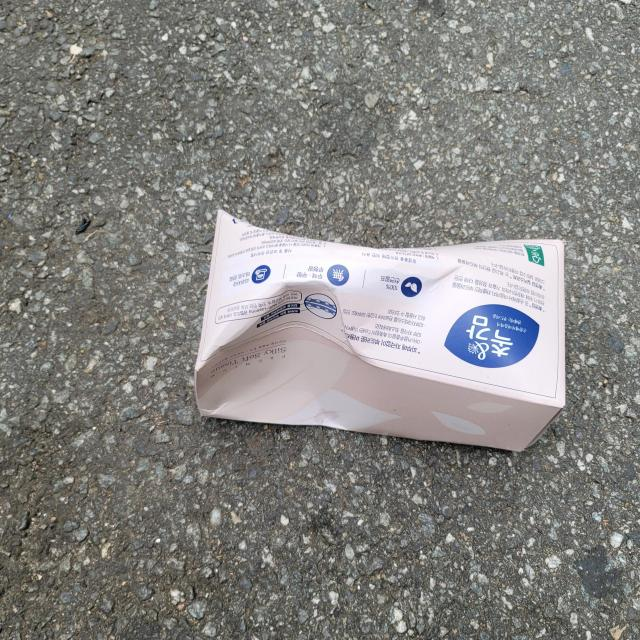paperpack: (195, 210, 566, 452)
